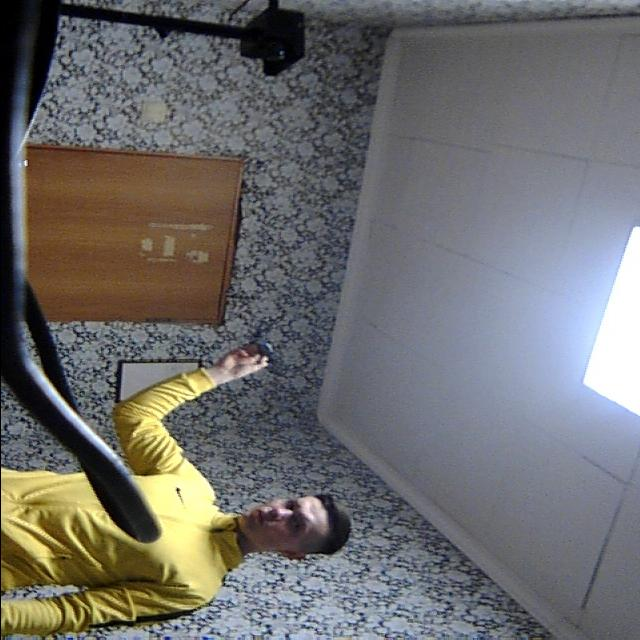drone: (242, 314, 285, 384)
